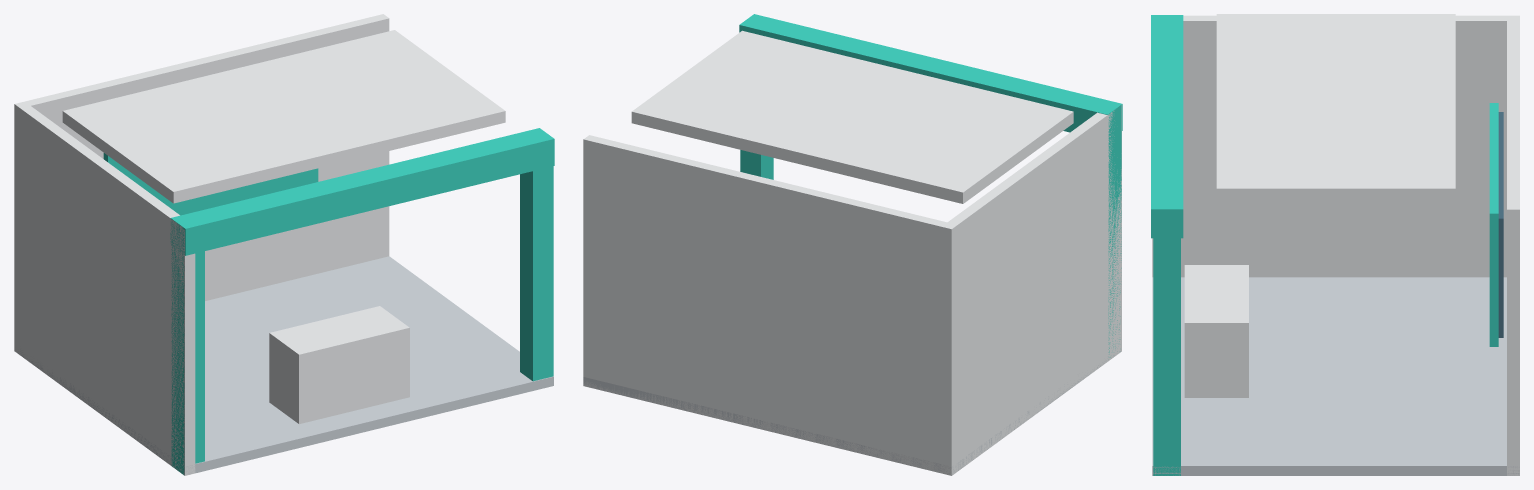
3 renders of one model, left to right at view 1: azimuth 30°, elevation 25°; view 2: azimuth 150°, elevation 25°; view 3: azimuth 270°, elevation 25°, orthographic. The views are drawn at different scales.
Parts seen in each view (by area): view 1: Exhibition Booth Concept; view 2: Exhibition Booth Concept; view 3: Exhibition Booth Concept.
Boxes of the visible parts, box(x1,y1,x2,y2) form: Exhibition Booth Concept: box(14, 14, 554, 475); Exhibition Booth Concept: box(583, 14, 1122, 475); Exhibition Booth Concept: box(1151, 14, 1519, 475).
Size of the model in its own units: 5 by 3.34 by 4.02.
